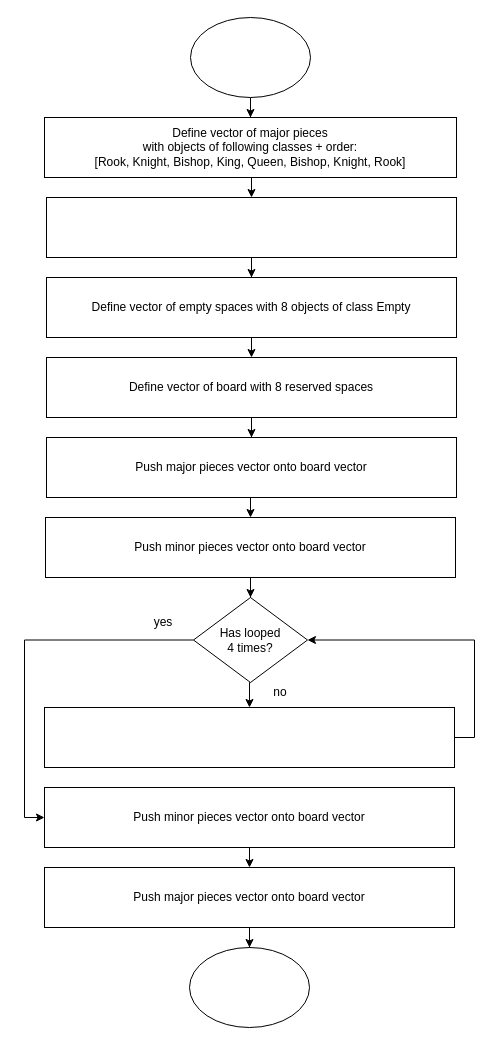
Some shapes in this 500 by 1045 pixel diagram are drawn without their labels. Here are the shapes that lost their labels. From the top down, the centre of each, then its label:
At point (250, 57): "START".
At point (251, 227): "Define vector of minor pieces with 8 objects of class Pawn".
At point (249, 737): "Push empty spaces vector onto board vector".
At point (249, 987): "END".
